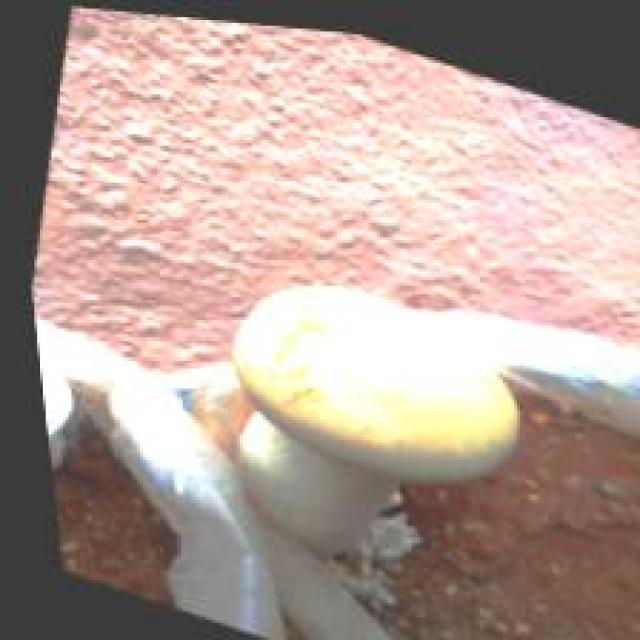death-cap: (229, 280, 520, 483)
